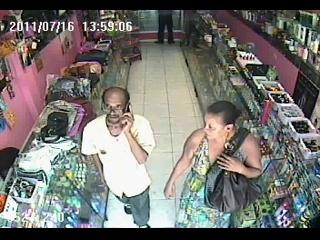Normal: (163, 100, 263, 228), (80, 86, 156, 227), (154, 10, 176, 46), (75, 50, 109, 66)
